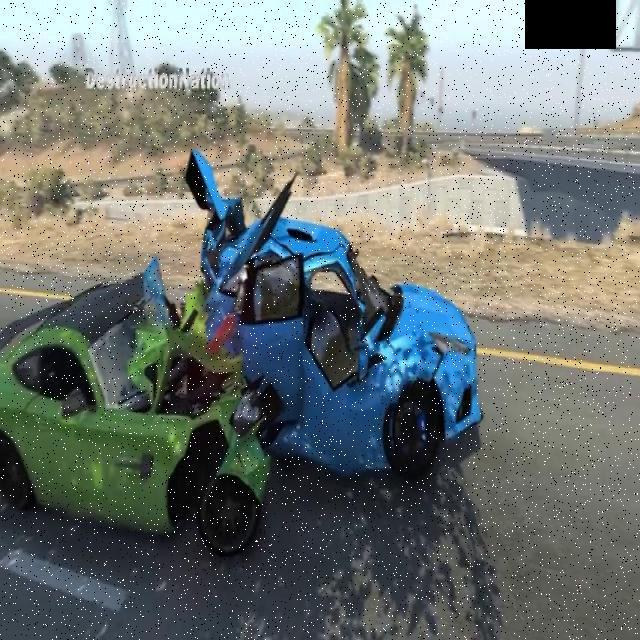accident: (0, 150, 487, 575)
